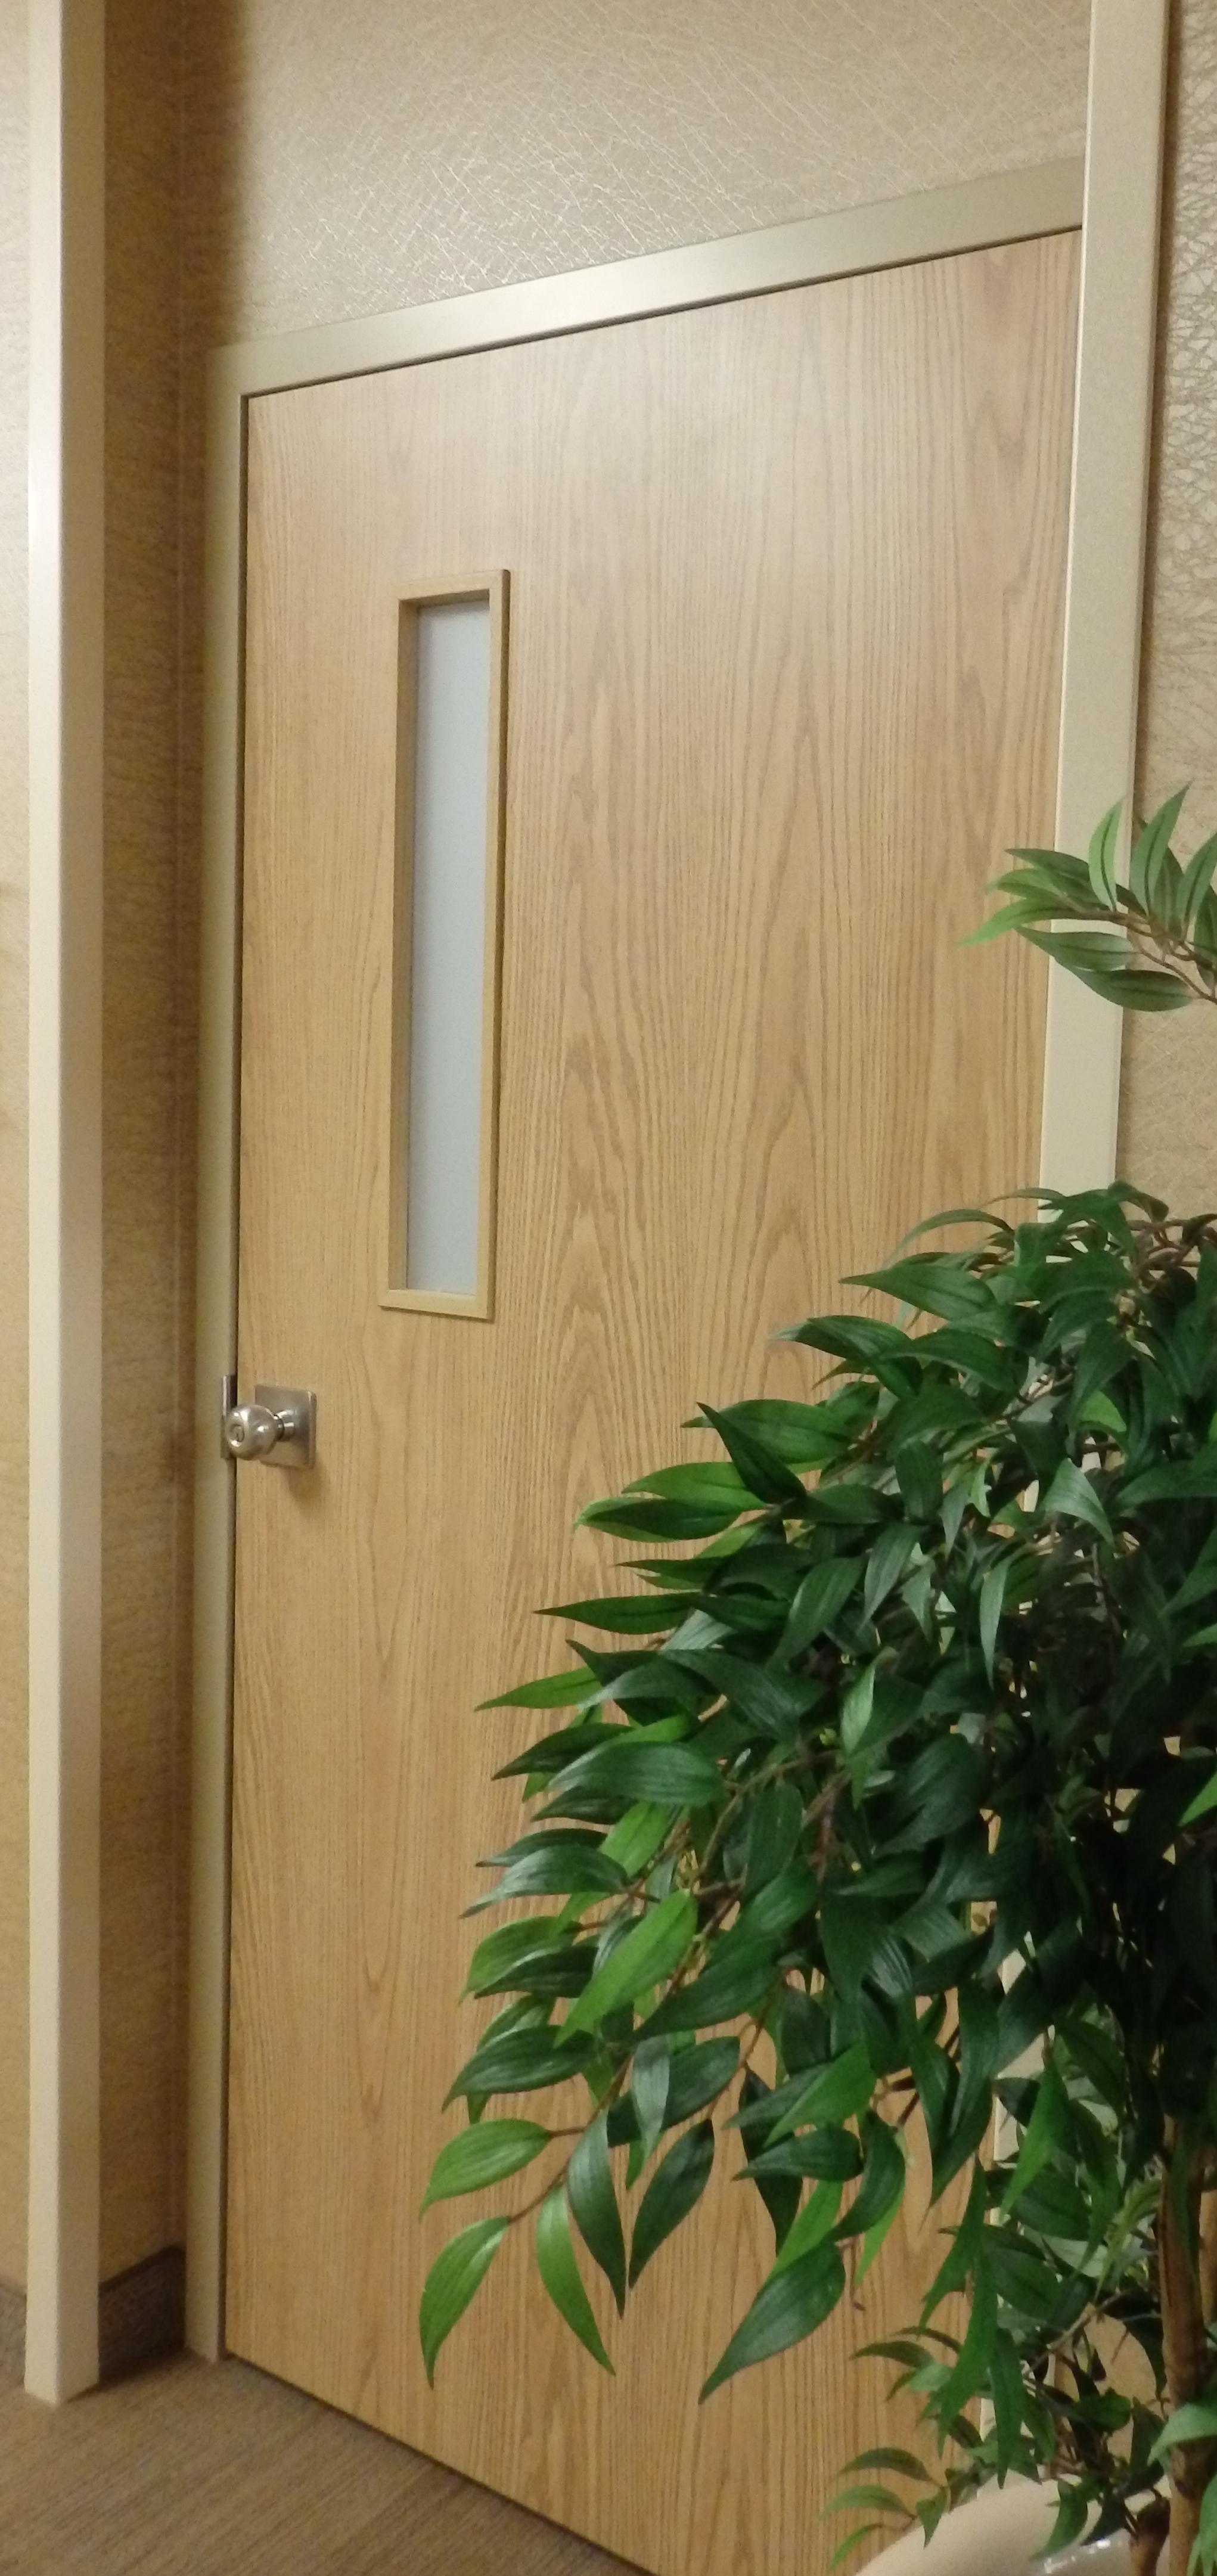door: (182, 315, 1028, 2492)
